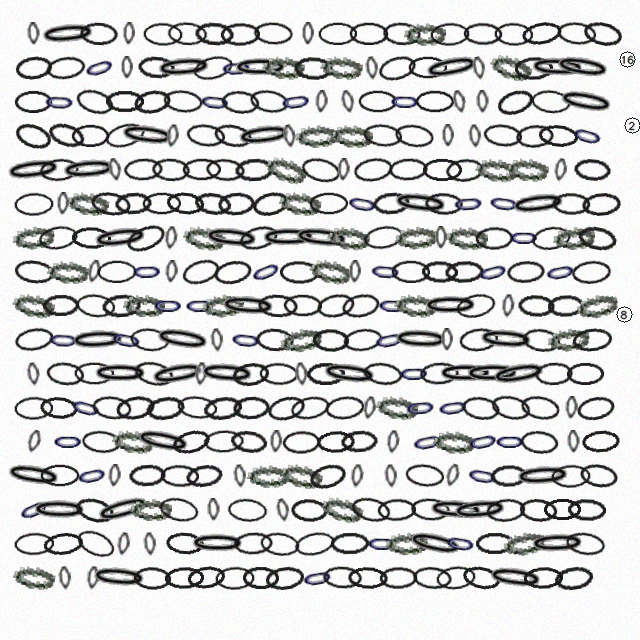chain: (93, 491, 154, 528), (405, 527, 465, 561), (422, 51, 482, 84), (133, 425, 193, 458), (556, 86, 616, 118), (148, 358, 208, 390), (489, 358, 549, 390), (553, 52, 612, 83), (153, 324, 212, 355), (4, 460, 63, 491), (4, 155, 63, 185), (509, 189, 568, 219), (91, 223, 150, 253), (320, 359, 379, 389), (486, 563, 545, 593), (118, 121, 177, 150), (235, 121, 294, 150), (391, 189, 450, 218), (73, 525, 118, 562), (202, 224, 261, 252), (292, 224, 351, 252), (39, 20, 97, 48), (451, 496, 509, 524), (123, 220, 168, 256), (155, 54, 213, 81), (60, 156, 118, 183), (477, 326, 535, 353), (198, 360, 256, 387), (90, 564, 148, 591), (263, 153, 309, 187), (488, 51, 534, 84), (219, 293, 277, 319), (69, 327, 127, 353), (514, 463, 572, 489), (427, 497, 485, 523), (574, 290, 620, 322), (278, 324, 324, 356), (494, 85, 537, 119), (12, 119, 55, 153), (103, 119, 147, 152), (179, 255, 223, 288), (392, 327, 450, 352), (319, 494, 365, 525), (501, 528, 547, 559), (529, 55, 586, 80), (529, 531, 586, 556), (73, 85, 116, 118), (45, 119, 88, 152), (191, 52, 235, 84), (299, 154, 343, 186), (237, 222, 280, 254), (265, 392, 308, 424), (170, 426, 213, 458), (73, 494, 116, 526), (31, 498, 88, 522), (454, 290, 498, 321), (132, 358, 176, 389), (489, 392, 533, 423), (157, 494, 201, 525), (349, 494, 393, 525), (279, 461, 324, 491), (376, 52, 418, 84), (307, 460, 349, 492), (581, 18, 624, 49), (232, 56, 289, 79), (260, 226, 317, 249), (422, 294, 479, 317), (92, 362, 149, 385), (437, 362, 494, 385), (464, 362, 521, 385), (189, 532, 246, 555), (11, 223, 56, 252), (308, 257, 353, 286), (11, 291, 56, 320), (546, 325, 591, 354), (250, 188, 292, 219), (293, 529, 336, 559), (460, 563, 503, 593), (201, 291, 245, 320), (212, 121, 254, 151), (576, 223, 618, 253), (212, 257, 254, 287), (289, 393, 331, 423), (575, 393, 617, 423), (247, 255, 285, 288), (15, 493, 53, 526), (520, 19, 563, 48), (89, 189, 132, 218), (362, 223, 405, 252), (182, 224, 226, 252), (552, 224, 596, 252), (248, 87, 290, 116), (352, 155, 394, 184), (37, 223, 79, 252), (13, 325, 55, 354), (114, 393, 156, 422), (519, 393, 561, 422), (578, 461, 620, 490), (564, 530, 607, 558), (132, 87, 173, 116), (315, 291, 356, 320), (340, 291, 381, 320), (66, 190, 110, 217), (278, 190, 322, 217), (394, 224, 438, 251), (375, 394, 419, 421), (111, 428, 155, 455), (12, 564, 56, 591), (45, 54, 87, 82), (393, 122, 435, 150), (530, 224, 572, 252), (342, 326, 384, 354), (362, 360, 404, 388), (144, 394, 186, 422), (42, 530, 84, 558), (259, 530, 301, 558), (202, 394, 243, 422), (460, 394, 501, 422), (184, 462, 225, 490), (264, 564, 305, 592), (553, 564, 594, 592), (81, 52, 118, 83), (162, 88, 204, 115), (530, 88, 572, 115), (13, 258, 55, 285), (571, 326, 613, 353), (91, 394, 133, 421), (176, 394, 218, 421), (324, 394, 366, 421), (435, 564, 477, 591), (193, 190, 233, 218), (521, 326, 561, 354), (231, 360, 271, 388), (229, 428, 269, 456), (295, 123, 338, 149), (475, 157, 518, 183), (327, 225, 370, 251), (569, 121, 606, 151), (556, 20, 597, 47), (185, 122, 226, 149), (362, 122, 403, 149), (482, 122, 523, 149), (165, 190, 206, 217), (75, 292, 116, 319), (129, 326, 170, 353), (458, 326, 499, 353), (404, 462, 445, 489), (186, 564, 227, 591), (537, 123, 579, 149), (485, 497, 527, 523), (14, 54, 54, 81), (475, 257, 511, 287), (45, 360, 85, 387), (68, 393, 104, 423), (262, 55, 305, 80), (320, 55, 363, 80), (506, 157, 549, 182), (394, 293, 437, 318), (385, 531, 428, 556), (220, 89, 261, 115), (571, 259, 612, 285), (81, 429, 122, 455), (519, 429, 560, 455), (227, 497, 268, 523), (518, 497, 559, 523), (465, 427, 501, 456), (74, 461, 110, 490), (39, 157, 79, 183), (205, 157, 245, 183), (445, 157, 485, 183), (581, 191, 621, 217), (506, 259, 546, 285), (39, 395, 79, 421), (412, 565, 452, 591), (167, 21, 208, 46), (257, 293, 298, 318), (419, 361, 460, 386), (203, 429, 244, 454), (322, 565, 363, 590), (515, 123, 554, 149), (573, 157, 612, 183), (404, 22, 446, 46), (331, 124, 373, 148), (446, 226, 488, 250), (47, 260, 89, 284), (433, 430, 475, 454), (247, 464, 289, 488), (79, 21, 119, 46), (194, 21, 234, 46), (253, 21, 293, 46), (123, 157, 163, 182), (151, 157, 191, 182), (234, 157, 274, 182), (388, 157, 428, 182), (101, 293, 141, 318), (255, 327, 295, 352), (581, 429, 621, 454), (410, 497, 450, 522), (165, 531, 205, 556), (233, 531, 273, 556), (347, 566, 388, 590), (345, 190, 380, 218), (543, 258, 578, 286), (109, 326, 144, 354), (372, 326, 407, 354), (410, 428, 445, 456), (465, 462, 500, 490), (300, 564, 335, 592), (382, 21, 421, 46), (137, 55, 176, 80), (114, 191, 153, 216), (217, 191, 256, 216), (372, 191, 411, 216), (534, 361, 573, 386), (232, 395, 271, 420), (340, 429, 379, 454), (128, 463, 167, 488), (123, 294, 165, 317), (130, 498, 172, 521), (143, 22, 183, 46), (220, 22, 260, 46), (430, 22, 470, 46), (463, 22, 503, 46), (293, 56, 333, 80), (14, 192, 54, 216), (424, 192, 464, 216), (71, 226, 111, 250), (279, 260, 319, 284), (444, 260, 484, 284), (316, 430, 356, 454), (551, 464, 591, 488), (14, 532, 54, 556), (164, 566, 204, 590), (215, 566, 255, 590), (523, 566, 563, 590), (443, 530, 478, 557), (494, 22, 533, 46), (514, 56, 553, 80), (552, 192, 591, 216), (475, 226, 514, 250), (517, 294, 556, 318), (259, 362, 298, 386), (14, 396, 53, 420), (282, 430, 321, 454), (160, 464, 199, 488), (290, 498, 329, 522), (377, 498, 416, 522), (567, 498, 606, 522), (133, 566, 172, 590), (379, 566, 418, 590), (349, 22, 389, 45), (415, 90, 455, 113), (422, 158, 462, 181), (97, 260, 137, 283), (74, 362, 114, 385), (40, 464, 80, 487), (279, 88, 313, 115), (487, 190, 521, 217), (436, 394, 470, 421), (421, 260, 459, 284), (547, 294, 585, 318), (312, 328, 350, 352), (490, 464, 528, 488), (318, 22, 357, 45), (408, 56, 447, 79), (14, 90, 53, 113), (105, 90, 144, 113), (358, 90, 397, 113), (71, 124, 110, 147), (182, 158, 221, 181), (142, 192, 181, 215), (309, 192, 348, 215), (391, 260, 430, 283), (283, 294, 322, 317), (306, 362, 345, 385), (566, 362, 605, 385), (543, 498, 582, 521), (330, 532, 369, 555), (475, 532, 514, 555), (198, 89, 232, 115), (229, 327, 263, 353), (42, 294, 80, 317), (242, 566, 280, 589), (452, 191, 485, 216), (369, 259, 402, 284), (404, 395, 437, 420), (220, 56, 253, 80), (43, 90, 76, 114), (47, 328, 80, 352), (389, 90, 421, 113), (508, 226, 540, 249), (131, 260, 163, 283), (152, 294, 184, 317), (184, 294, 216, 317), (377, 294, 409, 317), (398, 362, 430, 385), (52, 430, 84, 453), (494, 430, 526, 453), (366, 532, 398, 555), (25, 429, 43, 454), (451, 89, 468, 114), (444, 463, 461, 488), (340, 89, 356, 114), (107, 157, 123, 182), (86, 259, 102, 284), (471, 56, 487, 80), (275, 498, 291, 522), (165, 124, 180, 148), (282, 124, 297, 148), (553, 158, 568, 182), (26, 362, 41, 386), (294, 362, 309, 386), (362, 396, 377, 420), (116, 532, 131, 556), (365, 56, 379, 80), (468, 124, 482, 148), (164, 226, 178, 250), (501, 294, 515, 318), (210, 328, 224, 352), (194, 362, 208, 386), (386, 430, 400, 454), (233, 464, 247, 488), (350, 464, 364, 488), (384, 464, 398, 488), (143, 532, 157, 556), (58, 566, 72, 590), (86, 566, 100, 590), (27, 22, 40, 45), (315, 90, 328, 113), (476, 90, 489, 113), (337, 158, 350, 181), (165, 260, 178, 283), (565, 396, 578, 419), (567, 430, 580, 453), (108, 464, 121, 487), (207, 498, 220, 521), (123, 22, 135, 45), (302, 22, 314, 45), (121, 56, 133, 79), (442, 124, 454, 147), (57, 192, 69, 215), (435, 226, 447, 249), (349, 260, 361, 283), (441, 328, 453, 351), (270, 430, 282, 453)
noise: (617, 49, 637, 69), (614, 304, 634, 324), (622, 115, 640, 135)
